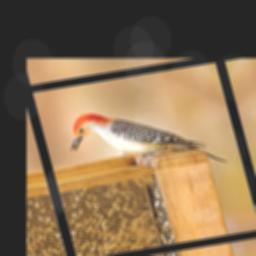Woodpecker: (61, 93, 228, 187)
